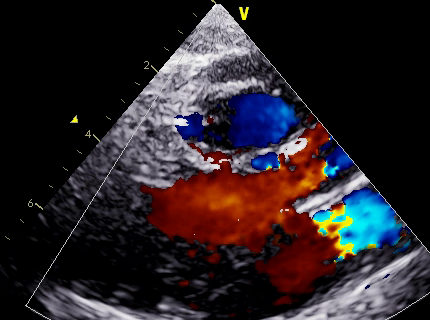AR: (180, 139, 317, 227)
